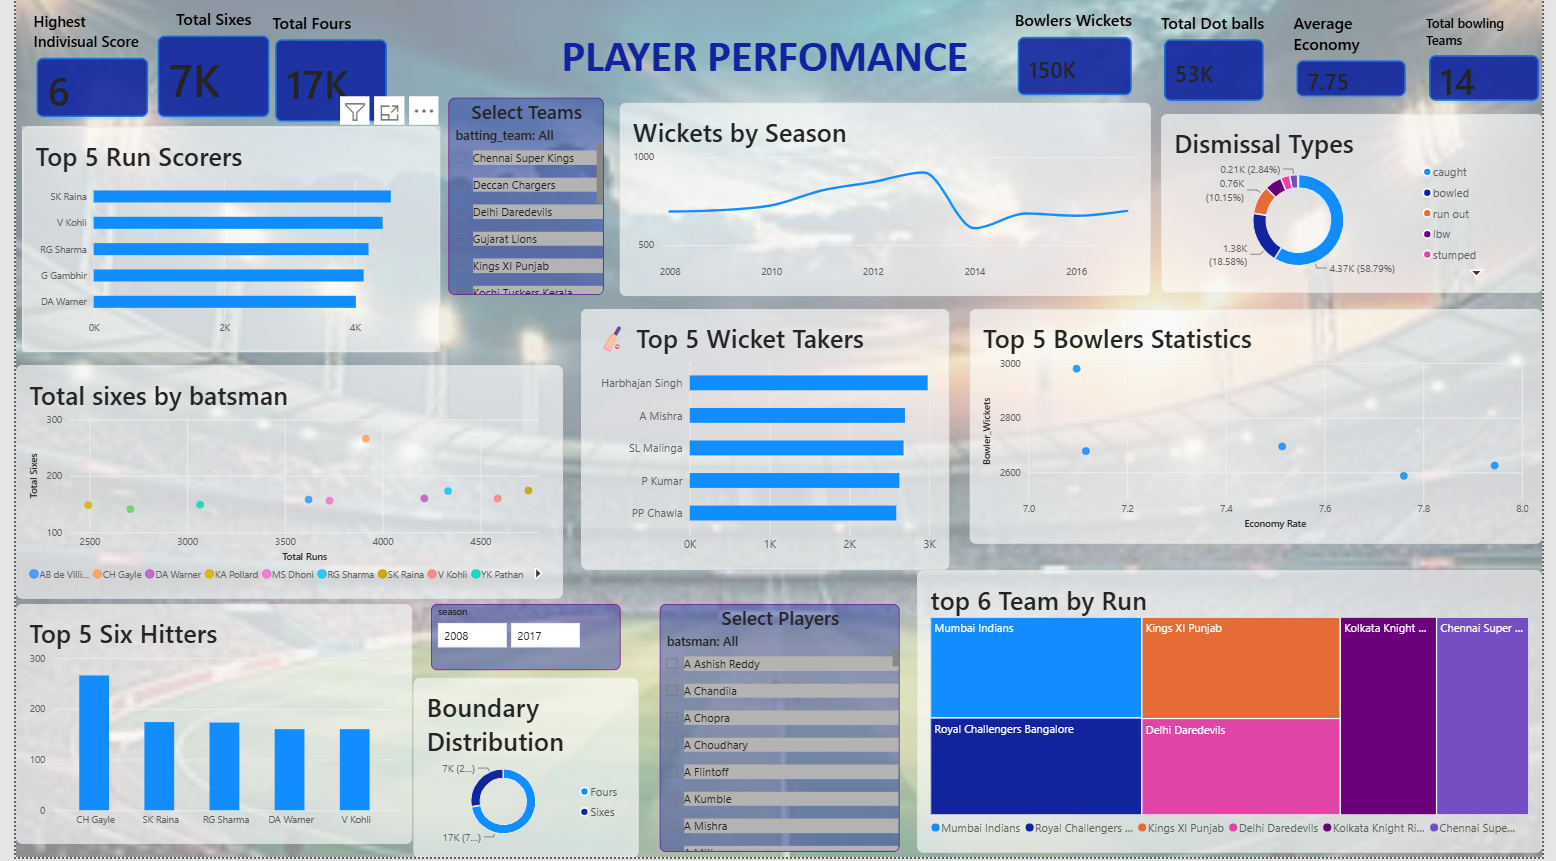

This screenshot's page, from the dashboard's own definition file:
{"tool":"powerbi","page":{"name":"player perfomance","canvas":[1920,1080],"ordinal":3},"visuals":[{"type":"textbox","box":[334.9,0,1214,144.8],"z":0},{"type":"cardVisual","title":"Highest Indivisual Score","fields":{"Data":["deliveries.Highest Individual Score"]},"box":[21.7,15,148.3,136.7],"z":1000},{"type":"cardVisual","title":"Total Sixes","fields":{"Data":["deliveries.Total Sixes"]},"box":[175,11.7,148.3,141.7],"z":2000},{"type":"cardVisual","title":"Total Fours","fields":{"Data":["deliveries.Total Fours"]},"box":[321.7,15,148.3,143.3],"z":3000},{"type":"clusteredBarChart","title":"Top 5 Run Scorers","fields":{"Category":["deliveries.batsman"],"Y":["Sum(deliveries.batsman_runs)"]},"box":[8,160,525,284],"z":4000},{"type":"columnChart","title":"Top 5 Six Hitters","fields":{"Category":["deliveries.batsman"],"Y":["deliveries.Total Sixes"]},"box":[0,761.7,498.3,301.7],"z":5000},{"type":"treemap","title":"top 6 Team by Run","fields":{"Group":["deliveries.batting_team"],"Values":["Sum(deliveries.batsman_runs)"]},"box":[1133.3,718.3,786.7,355],"z":6000},{"type":"donutChart","title":"Boundary Distribution","fields":{"Category":["Boundary.Boundary Types"],"Y":["Boundary.Boundary Count"]},"box":[500,853.3,283.3,226.7],"z":7000},{"type":"scatterChart","title":"Total sixes by batsman","fields":{"X":["deliveries.Total Runs"],"Y":["deliveries.Total Sixes"],"Series":["deliveries.batsman"]},"box":[0,460,688.3,293.3],"z":8000},{"type":"slicer","title":"Select Players","fields":{"Values":["deliveries.batsman"]},"box":[810,761.7,301.7,311.7],"z":9000},{"type":"slicer","title":"Select Teams","fields":{"Values":["deliveries.batting_team"]},"box":[543.3,125,195,248.3],"z":10000},{"type":"slicer","fields":{"Values":["matches.season"]},"box":[521.7,761.7,238.3,83.3],"z":11000},{"type":"cardVisual","title":"Total bowling Teams","fields":{"Data":["deliveries.Total Bowling Teams"]},"box":[1773.3,18.3,146.7,113.3],"z":12000},{"type":"cardVisual","title":"Average Economy","fields":{"Data":["deliveries.Average Economy"]},"box":[1606.7,15,145,111.7],"z":13000},{"type":"cardVisual","title":"Total Dot balls","fields":{"Data":["deliveries.Total Dot Balls"]},"box":[1440,15,133.3,116.7],"z":14000},{"type":"cardVisual","title":"Bowlers Wickets","fields":{"Data":["deliveries.Bowler Wickets"]},"box":[1256.7,13.3,151.7,113.3],"z":15000},{"type":"donutChart","title":"Dismissal Types","fields":{"Category":["deliveries.dismissal_kind"],"Y":["CountNonNull(deliveries.dismissal_kind)"]},"box":[1440,145,480,225],"z":16000},{"type":"barChart","title":"🏏 Top 5 Wicket Takers","fields":{"Category":["deliveries.bowler"],"Y":["deliveries.Bowler_Wickets"]},"box":[710,390,463.3,328.3],"z":17000},{"type":"scatterChart","title":"Top 5 Bowlers Statistics","fields":{"X":["deliveries.Economy Rate"],"Y":["deliveries.Bowler_Wickets"],"Category":["deliveries.bowler"]},"box":[1200,390,720,295],"z":18000},{"type":"lineChart","title":"Wickets by Season","fields":{"Category":["matches.season"],"Y":["deliveries.Total Wickets"]},"box":[760,130,668.3,243.3],"z":19000}]}

Visuals, with their boxes in screenshot pixels (x1, y1, x2, y2), scaled from the page's 1920x1080 canvas onto the 1556x861 screenshot:
textbox: 271:0:1255:115
"Highest Indivisual Score" cardVisual: 18:12:138:121
"Total Sixes" cardVisual: 142:9:262:122
"Total Fours" cardVisual: 261:12:381:126
"Top 5 Run Scorers" clusteredBarChart: 6:128:432:354
"Top 5 Six Hitters" columnChart: 0:607:404:848
"top 6 Team by Run" treemap: 918:573:1555:856
"Boundary Distribution" donutChart: 405:680:635:860
"Total sixes by batsman" scatterChart: 0:367:558:601
"Select Players" slicer: 656:607:901:856
"Select Teams" slicer: 440:100:598:298
slicer - matches.season: 423:607:616:674
"Total bowling Teams" cardVisual: 1437:15:1555:105
"Average Economy" cardVisual: 1302:12:1420:101
"Total Dot balls" cardVisual: 1167:12:1275:105
"Bowlers Wickets" cardVisual: 1018:11:1141:101
"Dismissal Types" donutChart: 1167:116:1555:295
"🏏 Top 5 Wicket Takers" barChart: 575:311:951:573
"Top 5 Bowlers Statistics" scatterChart: 972:311:1555:546
"Wickets by Season" lineChart: 616:104:1158:298
